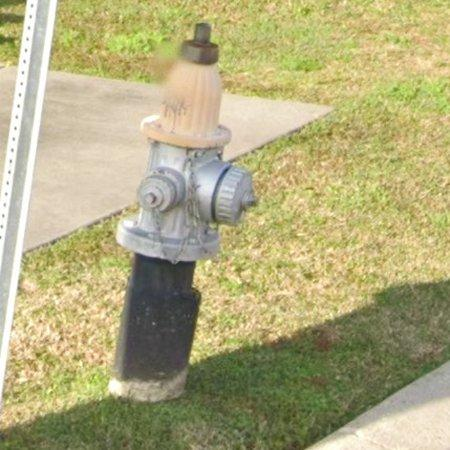a fire hydrant: (109, 23, 256, 402)
